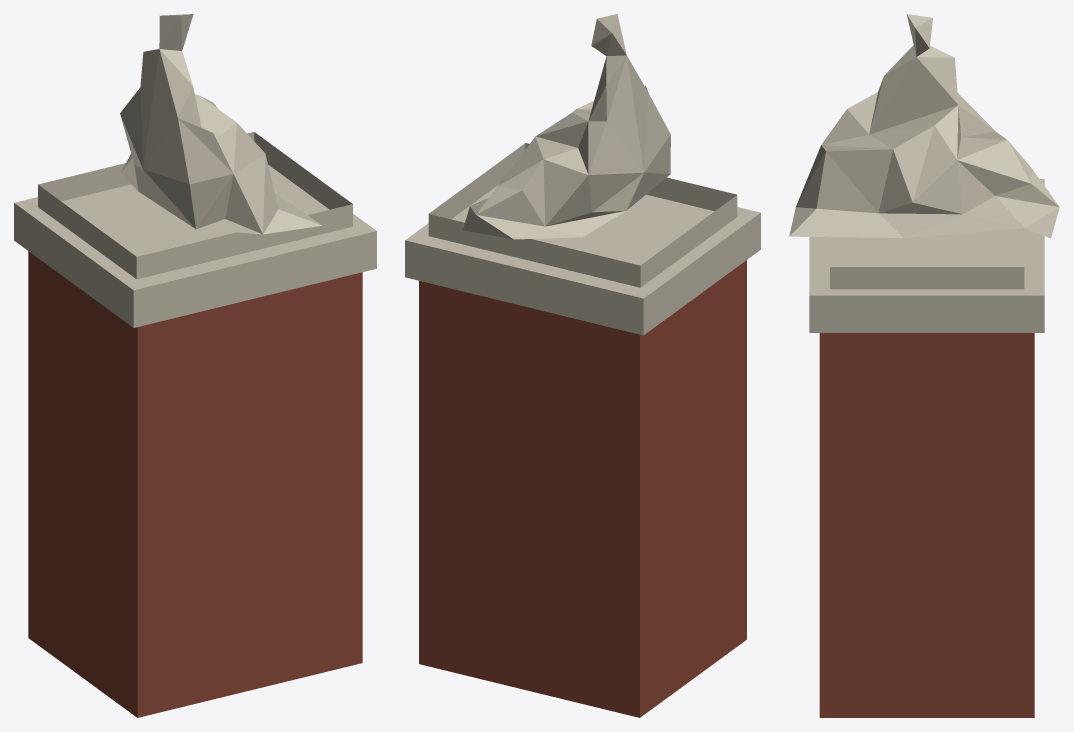
The model's file is kinderbrug-jongen-konijnen.lod2.glb.
3 renders of one model, left to right at view 1: azimuth 30°, elevation 25°; view 2: azimuth 150°, elevation 25°; view 3: azimuth 270°, elevation 25°, orthographic.
Parts seen in each view (by area): view 1: lod2; view 2: lod2; view 3: lod2.
Part boxes in pixels (<box>): lod2: <box>14,14,376,717</box>; lod2: <box>405,14,760,717</box>; lod2: <box>789,14,1059,717</box>.
Bounding box in the file's own units: 1.35 × 3.44 × 1.32.
